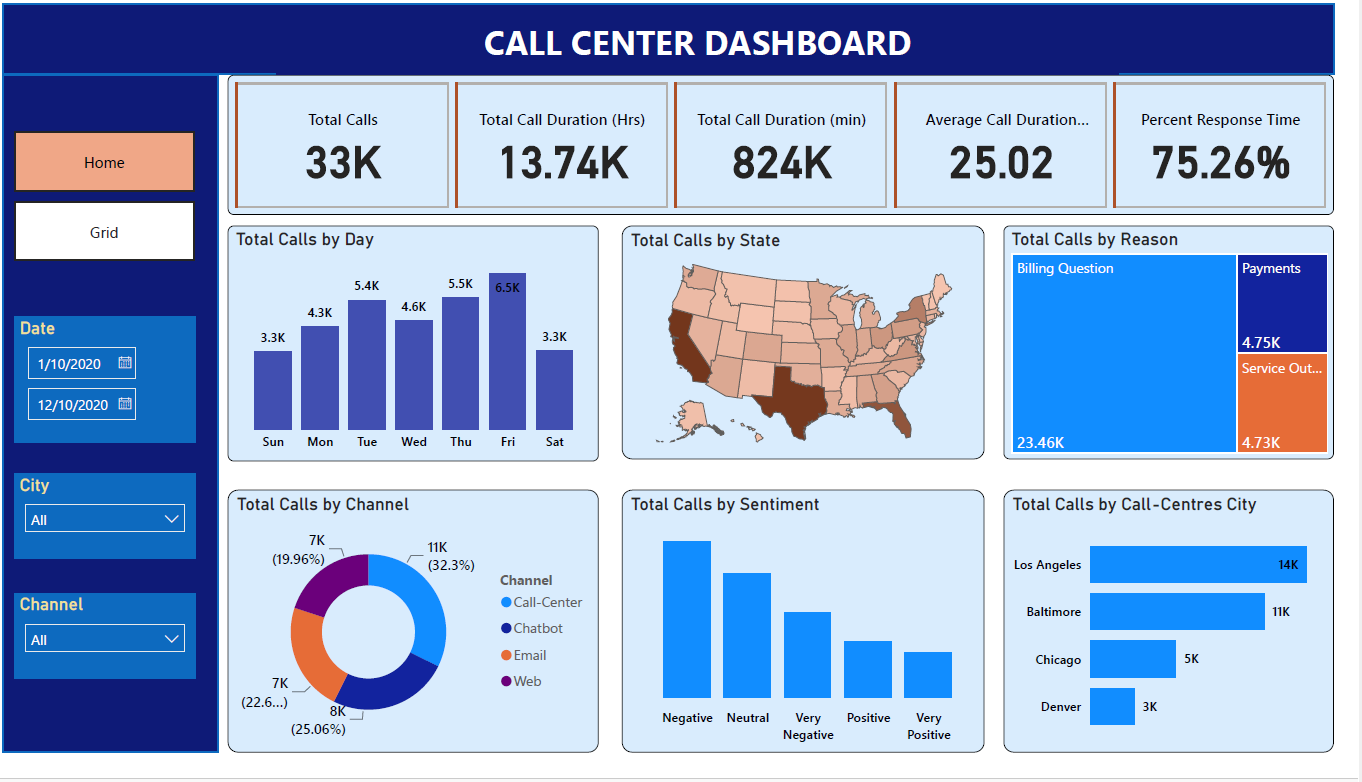

What the dashboard file says about the page in this screenshot:
{"tool":"powerbi","page":{"name":"Home","canvas":[1280,720],"ordinal":0},"visuals":[{"type":"shape","box":[0,68.5,206.6,651.5],"z":0},{"type":"shape","box":[0,0,1279.9,68.5],"z":1000},{"type":"cardVisual","fields":{"Data":["Call Center_Call Center.Total Calls","Call Center_Call Center.Total Call Duration (Hrs)","Sum(Call Center_Call Center.Call Duration In Minutes)","Avg(Call Center_Call Center.Call Duration In Minutes)","Call Center_Call Center.Percent Response Time"]},"box":[216.4,68.5,1063.5,134.5],"z":2000},{"type":"textbox","box":[262.8,8.6,810.5,59.9],"z":3000},{"type":"columnChart","fields":{"Y":["Call Center_Call Center.Total Calls"],"Category":["Date Table.Day"]},"box":[216.4,212.7,356.9,227.4],"z":4000},{"type":"treemap","fields":{"Group":["Call Center_Call Center.Reason"],"Values":["Call Center_Call Center.Total Calls"]},"box":[962,212.7,317.8,224.9],"z":5000},{"type":"shapeMap","fields":{"Category":["Call Center_Call Center.State"],"Value":["Call Center_Call Center.Total Calls"]},"box":[595.3,212.7,348.4,224.9],"z":6000},{"type":"donutChart","fields":{"Category":["Call Center_Call Center.Channel"],"Y":["Call Center_Call Center.Total Calls"]},"box":[216.4,467,356.9,253],"z":7000},{"type":"columnChart","fields":{"Category":["Call Center_Call Center.Sentiment"],"Y":["Call Center_Call Center.Total Calls"]},"box":[595.3,467,348.4,253],"z":8000},{"type":"barChart","fields":{"Category":["Call Center_Call Center.Call-Centres City"],"Y":["Call Center_Call Center.Total Calls"]},"box":[962,467,317.8,253],"z":9000},{"type":"slicer","title":"Date","fields":{"Values":["Date Table.Date"]},"box":[11,300.7,173.6,121],"z":10000},{"type":"slicer","title":"City","fields":{"Values":["Call Center_Call Center.City"]},"box":[11,452.3,173.6,80.7],"z":11000},{"type":"slicer","title":"Channel","fields":{"Values":["Call Center_Call Center.Channel"]},"box":[11,567.2,173.6,81.9],"z":12000},{"type":"pageNavigator","box":[11,123.5,173.6,125.9],"z":13000}]}

Visuals, with their boxes in screenshot pixels (x1, y1, x2, y2), scaled from the page's 1280x720 canvas onto the 1362x782 screenshot:
shape: rect(0, 74, 220, 781)
shape: rect(0, 0, 1361, 74)
cardVisual - Call Center_Call Center.Total Calls x Call Center_Call Center.Total Call Duration (Hrs): rect(230, 74, 1361, 220)
textbox: rect(280, 9, 1142, 74)
columnChart - Call Center_Call Center.Total Calls x Date Table.Day: rect(230, 231, 610, 478)
treemap - Call Center_Call Center.Reason x Call Center_Call Center.Total Calls: rect(1024, 231, 1361, 475)
shapeMap - Call Center_Call Center.State x Call Center_Call Center.Total Calls: rect(633, 231, 1004, 475)
donutChart - Call Center_Call Center.Channel x Call Center_Call Center.Total Calls: rect(230, 507, 610, 781)
columnChart - Call Center_Call Center.Sentiment x Call Center_Call Center.Total Calls: rect(633, 507, 1004, 781)
barChart - Call Center_Call Center.Call-Centres City x Call Center_Call Center.Total Calls: rect(1024, 507, 1361, 781)
"Date" slicer: rect(12, 327, 196, 458)
"City" slicer: rect(12, 491, 196, 579)
"Channel" slicer: rect(12, 616, 196, 705)
pageNavigator: rect(12, 134, 196, 271)
